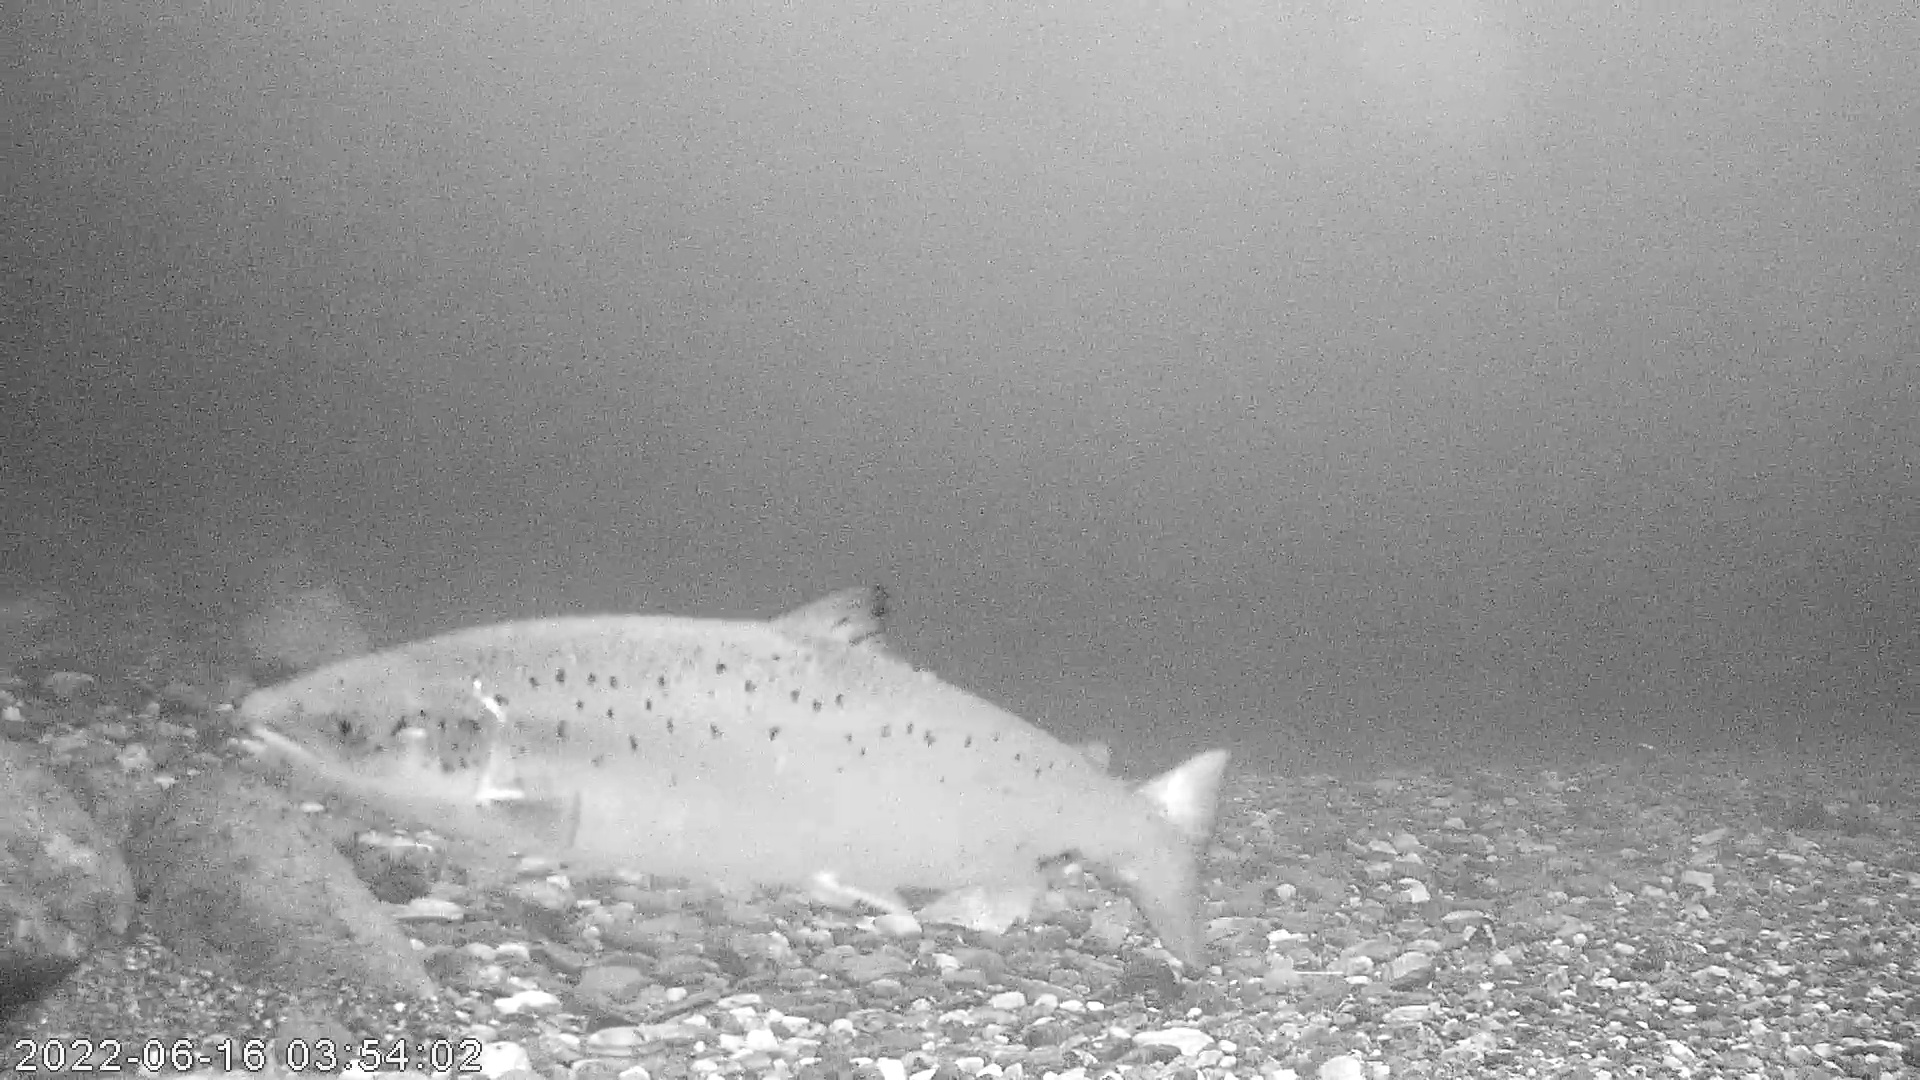salmon: (236, 580, 1234, 976)
